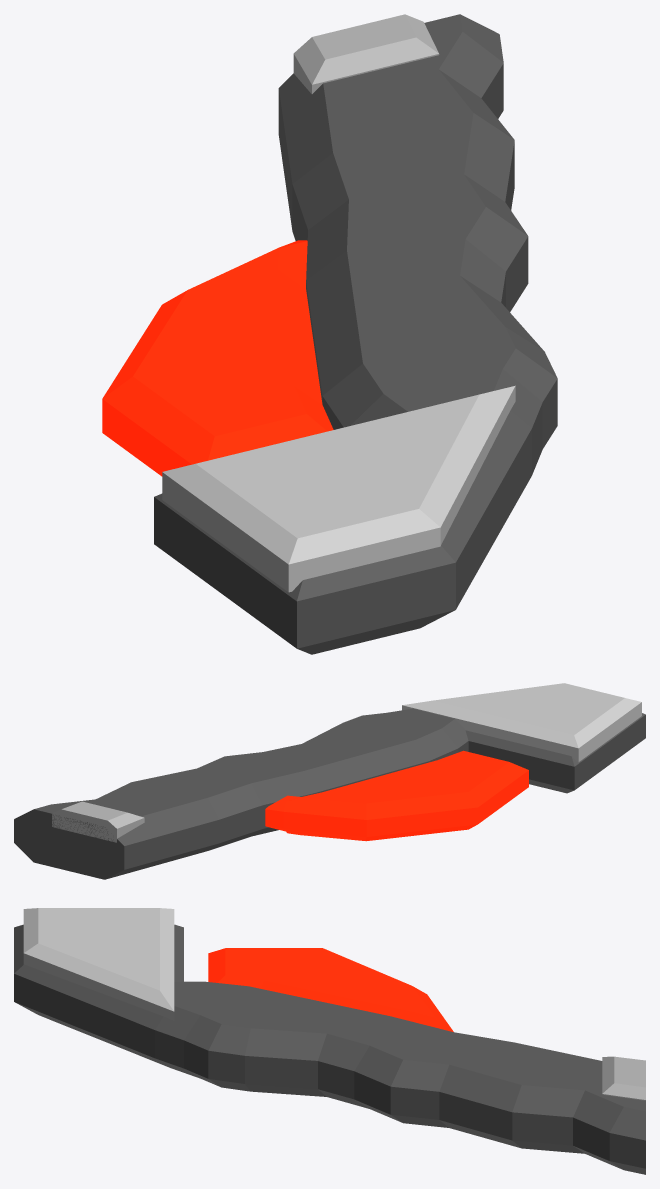
The model's file is newshk-243.glb.
3 renders of one model, top to bottom at view 1: azimuth 30°, elevation 25°; view 2: azimuth 150°, elevation 25°; view 3: azimuth 270°, elevation 25°, orthographic. The views are drawn at different scales.
Visible parts, largest first — view 1: newshk-243; view 2: newshk-243; view 3: newshk-243.
Boxes of the visible parts, box(x1,y1,x2,y2) form: newshk-243: box(102, 14, 557, 654); newshk-243: box(14, 683, 645, 879); newshk-243: box(14, 908, 645, 1174).
Size of the model in its own units: 1.73 by 0.27 by 2.17.
